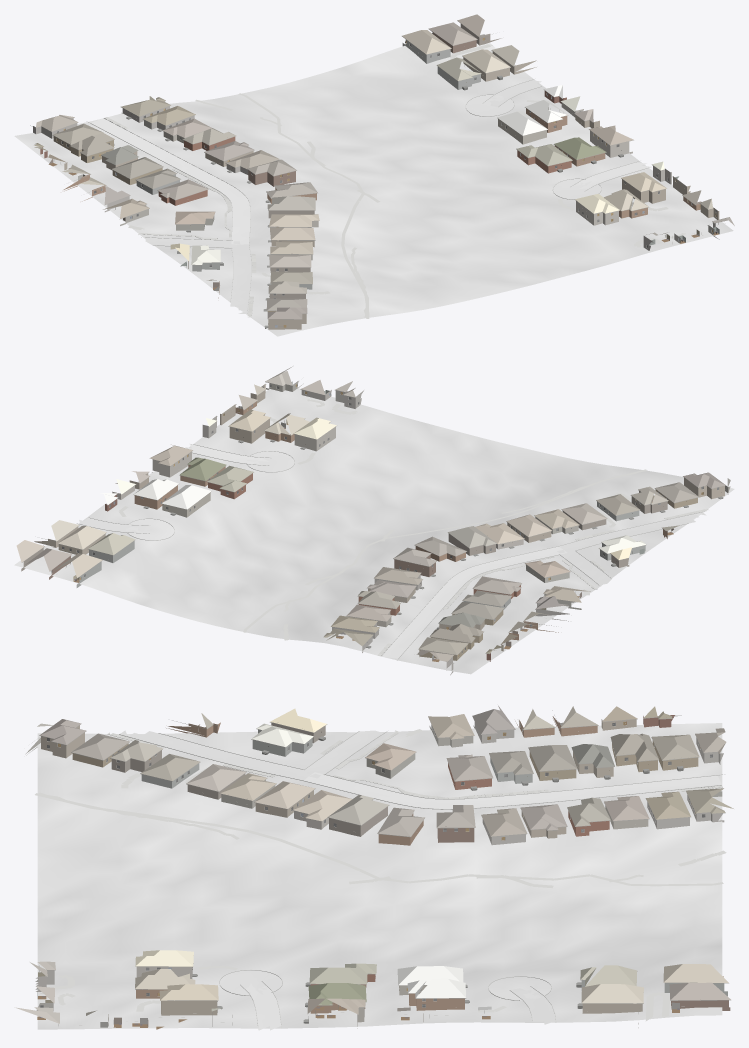
The picture shows the model from 3 angles, top to bottom: view 1: azimuth 30°, elevation 25°; view 2: azimuth 150°, elevation 25°; view 3: azimuth 270°, elevation 25°; orthographic projection. The views are drawn at different scales.
Parts seen in each view (by area): view 1: ground, roof, concrete, wall, wall_stucco, walk, detail, wall_stone, curb; view 2: ground, roof, concrete, wall, wall_stucco, walk, detail, curb, wall_stone; view 3: ground, roof, concrete, wall, wall_stucco, walk, detail, curb, wall_stone, room.
Part boxes in pixels (x1,y1,x2,y2): ground: (14, 34, 733, 336); roof: (34, 14, 734, 326); concrete: (91, 80, 651, 313); wall: (40, 24, 719, 311); wall_stucco: (102, 39, 719, 329); walk: (105, 44, 685, 318); detail: (30, 20, 725, 328); wall_stone: (33, 106, 680, 250); curb: (88, 79, 649, 313); ground: (14, 388, 734, 674); roof: (16, 366, 730, 662); concrete: (79, 443, 706, 658); wall: (21, 384, 697, 661); wall_stucco: (34, 381, 730, 630); walk: (43, 399, 708, 656); detail: (22, 381, 727, 665); curb: (77, 444, 704, 660); wall_stone: (202, 390, 569, 675); ground: (37, 723, 722, 1029); roof: (14, 705, 733, 1023); concrete: (119, 730, 721, 1030); wall: (72, 715, 730, 1026); wall_stucco: (25, 725, 727, 1028); walk: (35, 729, 726, 1021); detail: (32, 710, 730, 1026); curb: (108, 731, 725, 1029); wall_stone: (36, 722, 724, 1026); room: (37, 721, 723, 1029).
Size of the model in its own units: 271 by 16.79 by 263.
